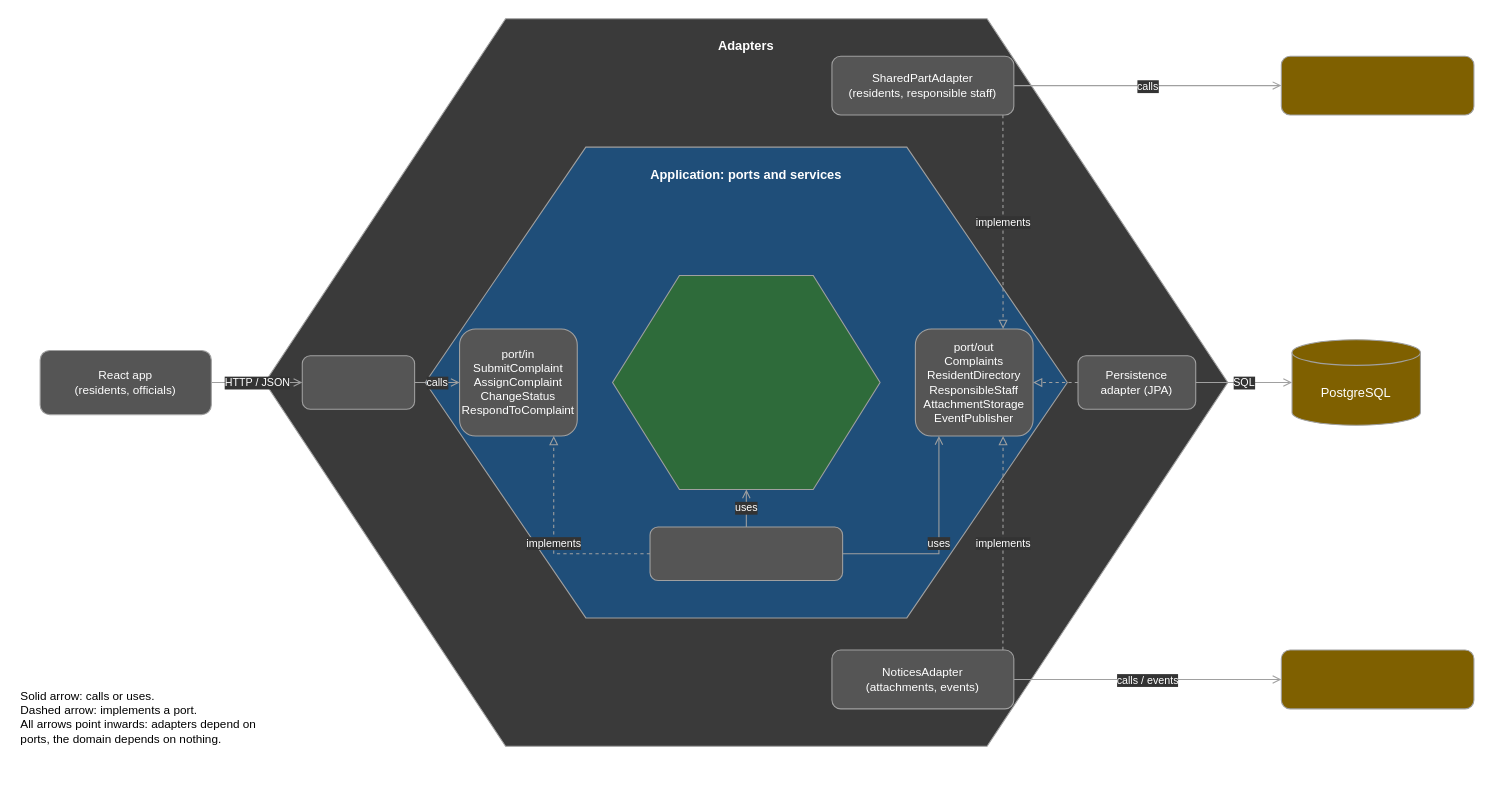
This 1493x808 diagram has some shape labels left out. The centre of each missing label's shape, as x and y in pixels:
"ComplaintController (REST)" goes at point (358, 382).
"ComplaintService (implements the use cases)" goes at point (746, 553).
"Domain Complaint ComplaintCategory StatusChange OfficialResponse InternalNote" goes at point (746, 382).
"Notices module" goes at point (1377, 679).
"Shared module (users, neighbourhoods)" goes at point (1377, 85).
